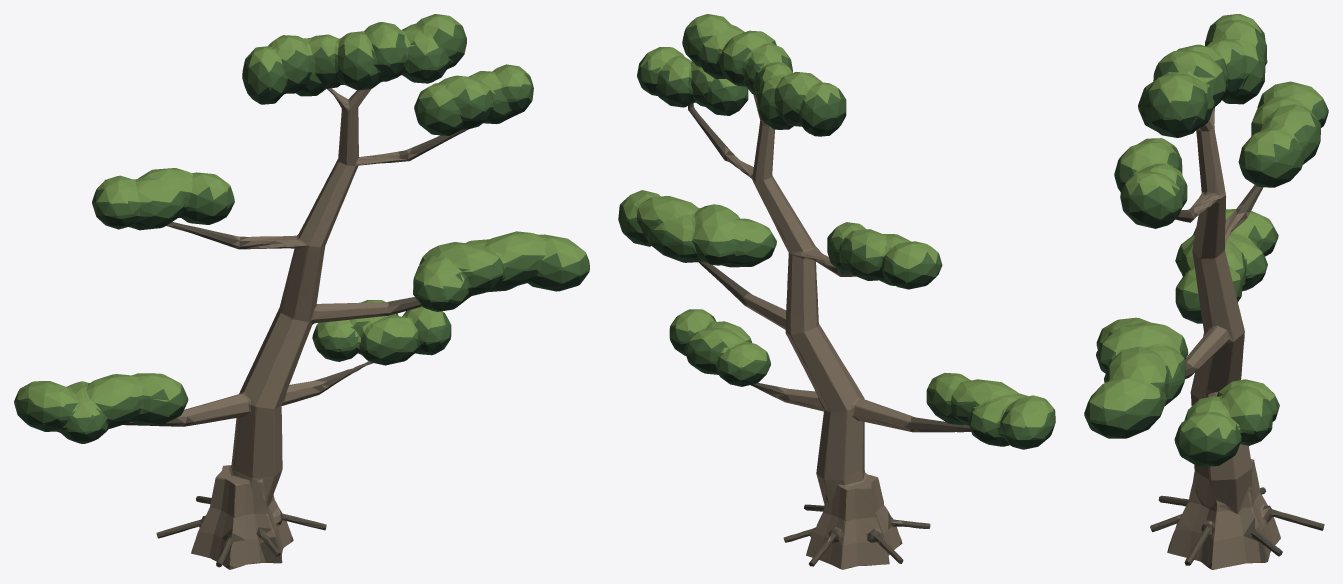
File: ancient-pine-811-v2-lod0.glb
3 views of the same model, side by side, from view 1: azimuth 30°, elevation 25°; view 2: azimuth 150°, elevation 25°; view 3: azimuth 270°, elevation 25° (orthographic). The views are drawn at different scales.
Parts seen in each view (by area): view 1: n8.002, n12.002, n11.002, n10.002, n9.002; view 2: n8.002, n12.002, n11.002, n10.002, n9.002; view 3: n12.002, n8.002, n11.002, n10.002, n9.002.
Part boxes in pixels (x1,y1,x2,y2): n8.002: [169, 88, 416, 569]; n12.002: [17, 14, 586, 418]; n11.002: [14, 24, 589, 434]; n10.002: [14, 51, 589, 443]; n9.002: [123, 88, 468, 569]; n8.002: [721, 94, 921, 569]; n12.002: [621, 14, 1053, 427]; n11.002: [618, 25, 1055, 440]; n10.002: [618, 43, 1055, 449]; n9.002: [688, 103, 971, 566]; n12.002: [1089, 14, 1323, 438]; n8.002: [1168, 107, 1283, 569]; n11.002: [1084, 23, 1328, 456]; n10.002: [1085, 62, 1328, 466]; n9.002: [1150, 185, 1324, 569].
Bounding box in the file's own units: 5.9 × 5.61 × 2.2.
